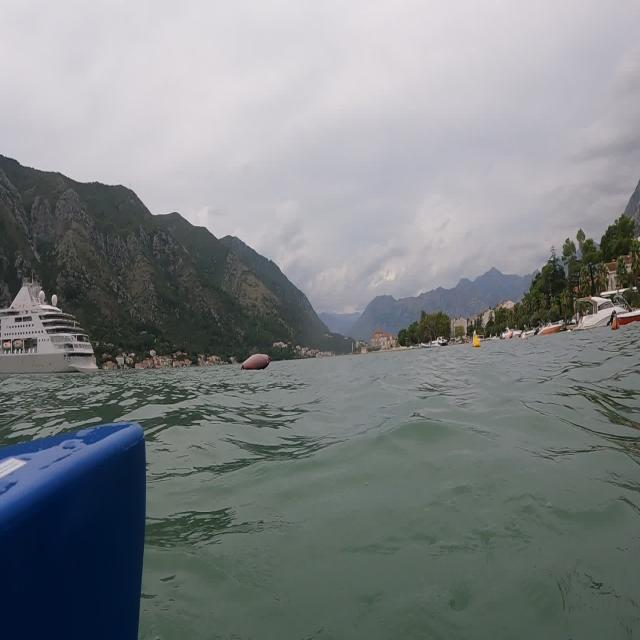boat: (571, 281, 640, 344)
buoy: (0, 270, 100, 379), (240, 350, 274, 376), (472, 333, 482, 353)
